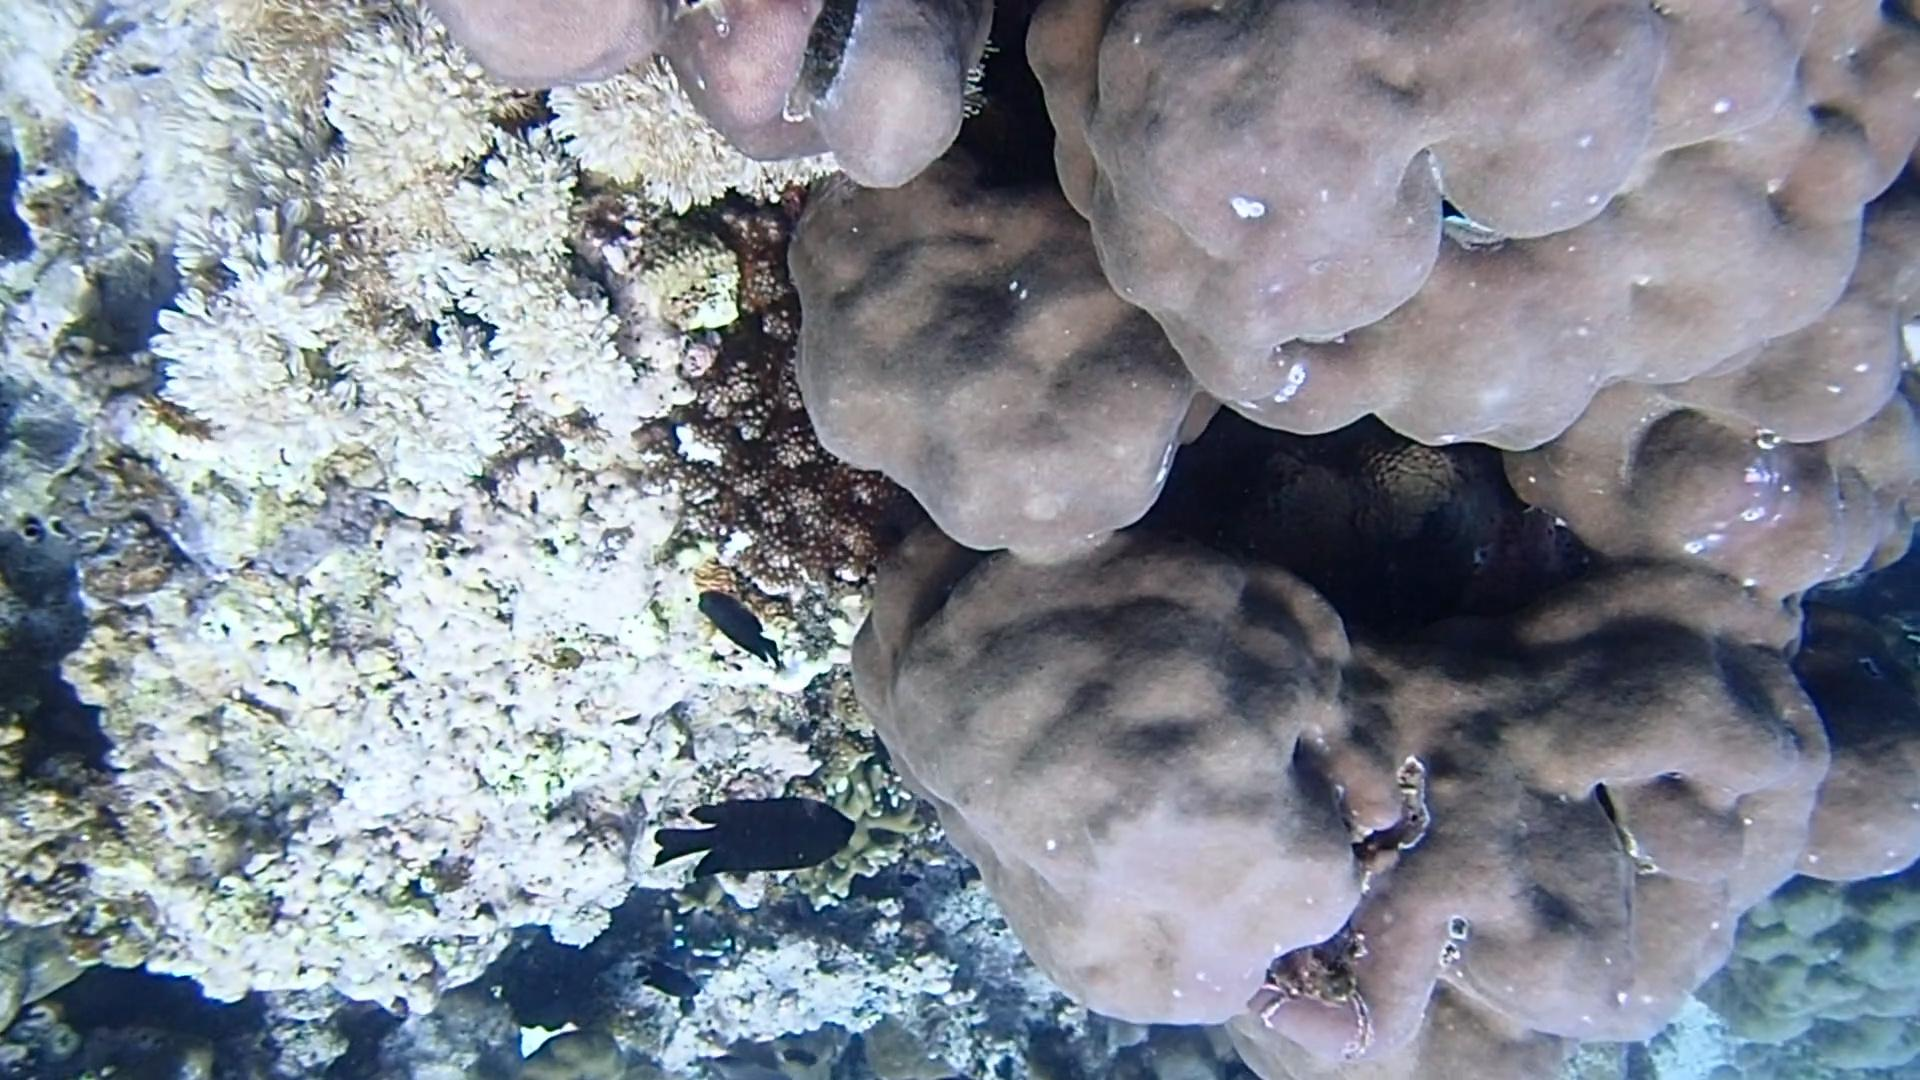Dark Fish: (645, 783, 861, 893), (684, 588, 793, 675), (630, 952, 703, 1006)
